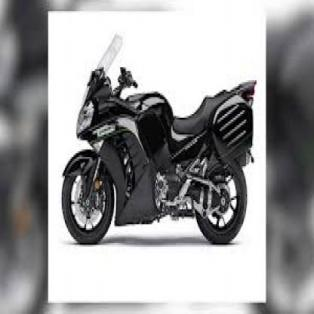Motocicleta: (60, 32, 262, 246)
